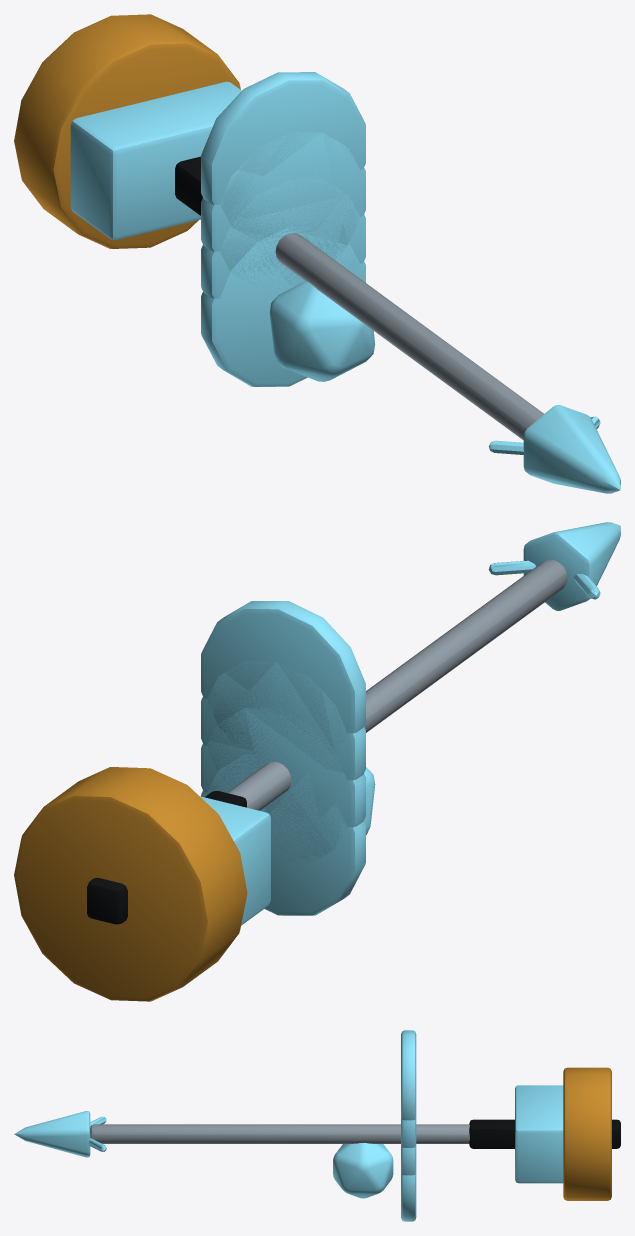
File: HarpoonB1.obj
3 views of the same model, one above another, from view 1: azimuth 30°, elevation 25°; view 2: azimuth 150°, elevation 25°; view 3: azimuth 270°, elevation 25° (orthographic). The views are drawn at different scales.
Parts seen in each view (by area): view 1: HarpoonB1; view 2: HarpoonB1; view 3: HarpoonB1.
Part boxes in pixels (bbox=[...]): HarpoonB1: bbox=[14, 14, 620, 493]; HarpoonB1: bbox=[14, 522, 620, 1001]; HarpoonB1: bbox=[14, 1030, 620, 1221].
Bounding box in the file's own units: 0.44 × 0.66 × 2.
